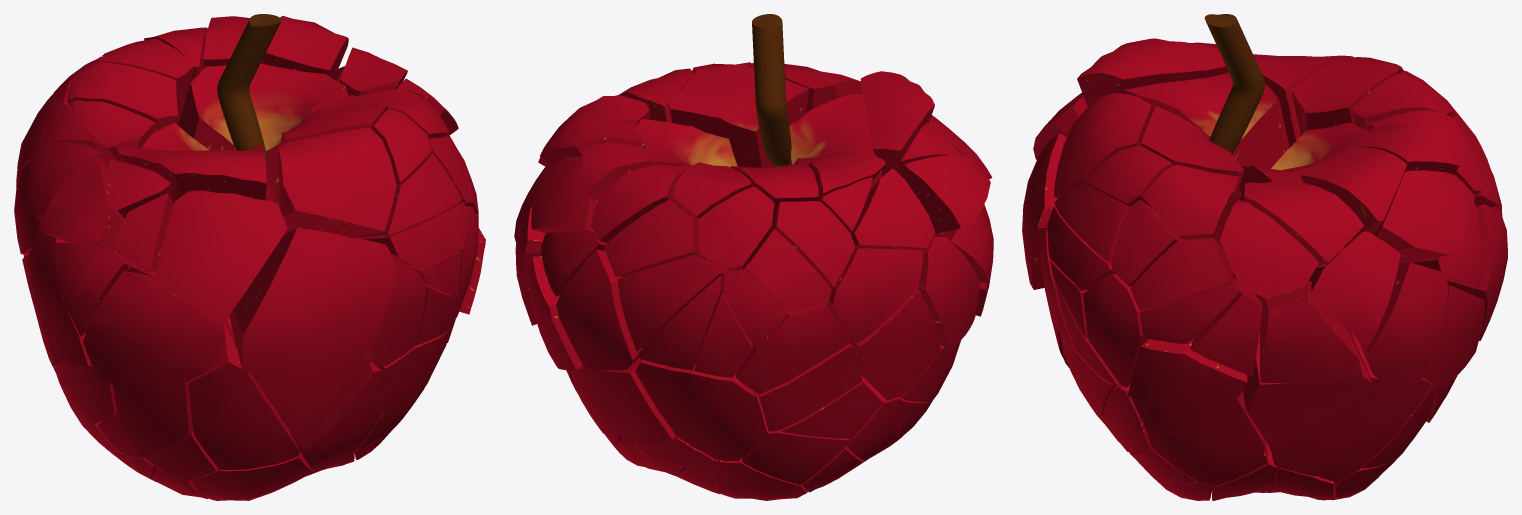
The model's file is Apple Meledak.fbx.
3 renders of one model, left to right at view 1: azimuth 30°, elevation 25°; view 2: azimuth 150°, elevation 25°; view 3: azimuth 270°, elevation 25°, orthographic. The views are drawn at different scales.
Visible parts, largest first — view 1: Icosphere_cell.094, Icosphere_cell.079, Icosphere_cell.035, Icosphere_cell.008, Icosphere_cell.066, Icosphere_cell.096, Icosphere_cell.054, Icosphere_cell.023, Icosphere_cell.006, Icosphere_cell.005, Cylinder, Icosphere_cell.027 (+37 smaller); view 2: Icosphere_cell.004, Icosphere_cell.040, Icosphere_cell.049, Icosphere_cell.060, Icosphere_cell.043, Icosphere_cell.034, Icosphere_cell.089, Icosphere_cell.006, Icosphere_cell.023, Icosphere_cell.069, Icosphere_cell.097, Icosphere_cell.038 (+38 smaller); view 3: Icosphere_cell.033, Icosphere_cell.026, Icosphere_cell.025, Icosphere_cell.055, Icosphere_cell.095, Icosphere_cell.022, Icosphere_cell.081, Icosphere_cell.023, Icosphere_cell.008, Icosphere_cell.010, Icosphere_cell.007, Icosphere_cell.002 (+39 smaller).
Part boxes in pixels (x1,y1,x2,y2): Icosphere_cell.094: (229, 227, 396, 378); Icosphere_cell.079: (155, 190, 287, 326); Icosphere_cell.035: (83, 271, 223, 386); Icosphere_cell.008: (278, 127, 396, 236); Icosphere_cell.066: (188, 320, 299, 469); Icosphere_cell.096: (178, 63, 348, 232); Icosphere_cell.054: (226, 315, 372, 450); Icosphere_cell.023: (119, 148, 266, 203); Icosphere_cell.006: (39, 158, 153, 272); Icosphere_cell.005: (67, 62, 178, 131); Cylinder: (217, 14, 281, 166); Icosphere_cell.027: (112, 381, 192, 458); Icosphere_cell.004: (635, 360, 763, 461); Icosphere_cell.040: (668, 64, 808, 167); Icosphere_cell.049: (556, 250, 642, 370); Icosphere_cell.060: (825, 248, 922, 343); Icosphere_cell.043: (844, 289, 941, 400); Icosphere_cell.034: (736, 300, 848, 394); Icosphere_cell.089: (617, 255, 729, 350); Icosphere_cell.006: (900, 155, 990, 234); Icosphere_cell.023: (860, 71, 934, 174); Icosphere_cell.069: (918, 237, 980, 350); Icosphere_cell.097: (603, 200, 713, 276); Icosphere_cell.038: (850, 168, 935, 249); Icosphere_cell.033: (1260, 281, 1363, 383); Icosphere_cell.026: (1358, 262, 1448, 382); Icosphere_cell.025: (1374, 170, 1474, 262); Icosphere_cell.055: (1123, 72, 1289, 168); Icosphere_cell.095: (1311, 231, 1400, 347); Icosphere_cell.022: (1219, 199, 1318, 299); Icosphere_cell.081: (1127, 338, 1247, 408); Icosphere_cell.023: (1077, 38, 1228, 106); Icosphere_cell.008: (1054, 93, 1151, 206); Icosphere_cell.010: (1244, 180, 1363, 266); Icosphere_cell.007: (1243, 324, 1371, 453); Icosphere_cell.002: (1142, 165, 1239, 247).
Bounding box in the file's own units: 205 × 203 × 201.
